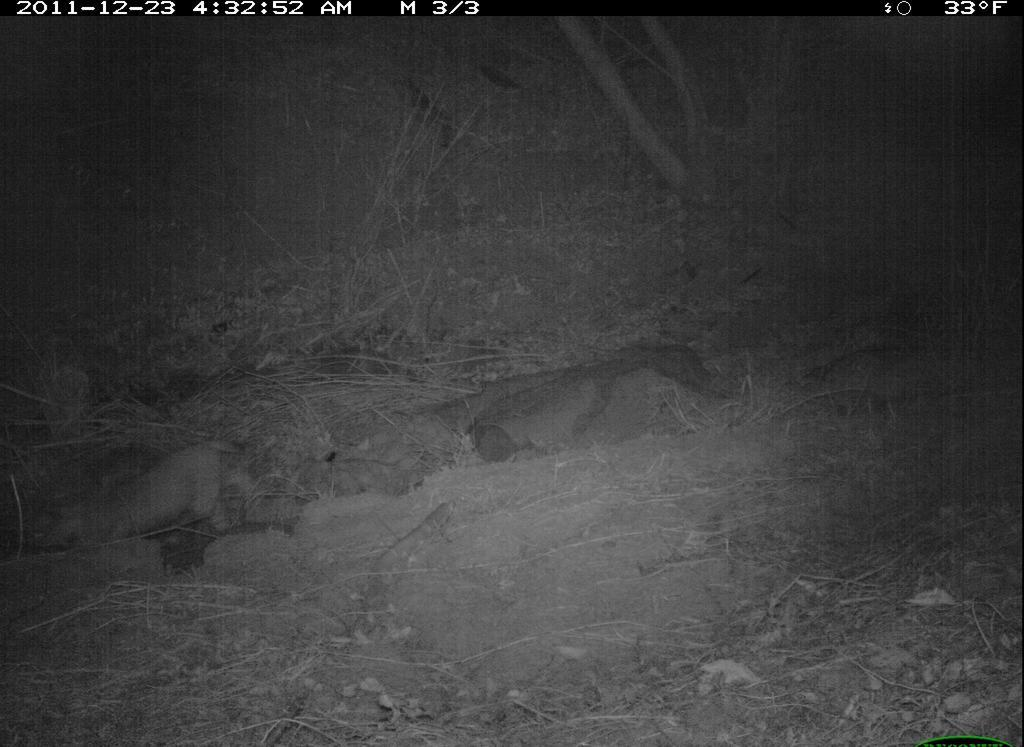bobcat: (20, 417, 271, 575)
